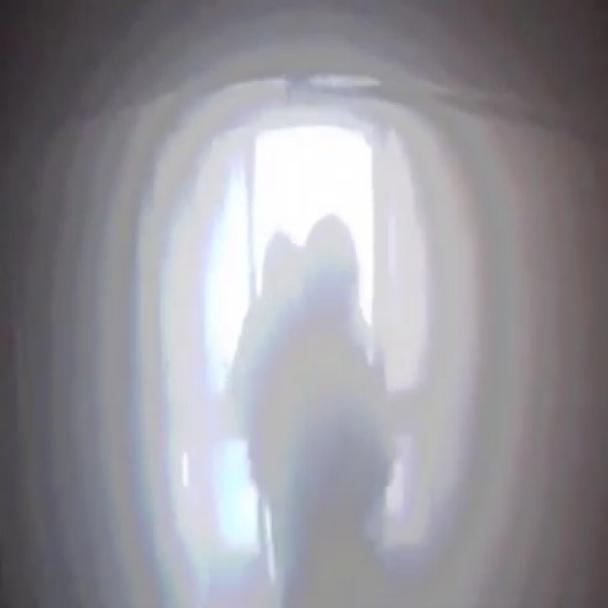smoke: (59, 39, 607, 606)
